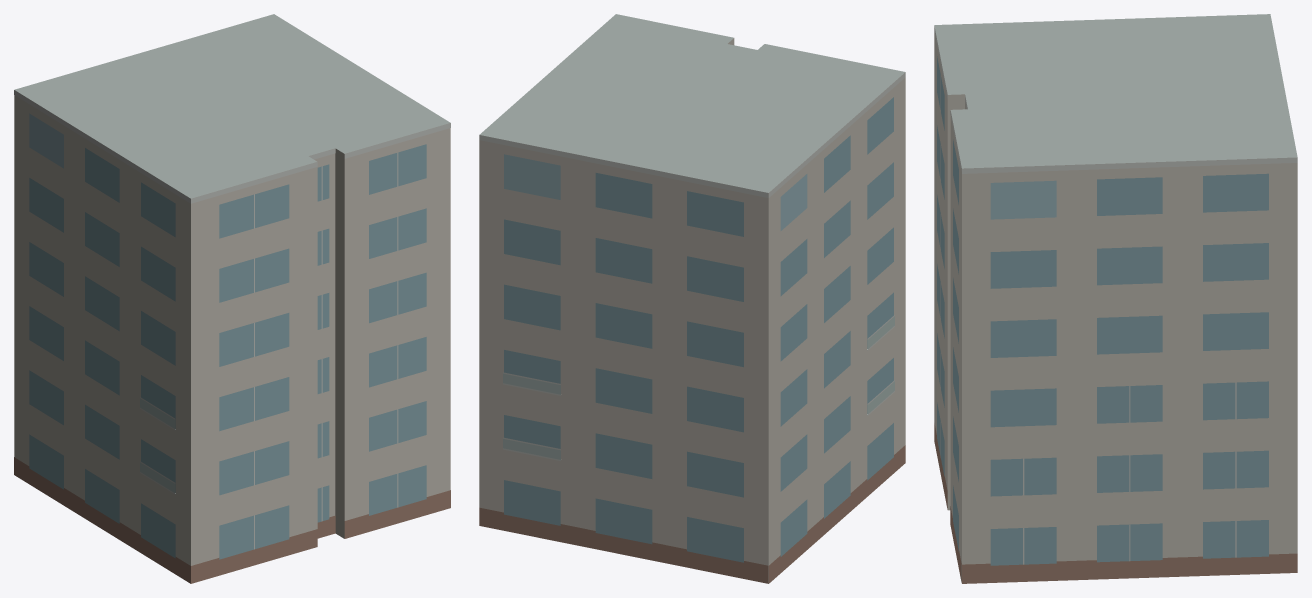
File: survey-upis-32737533.glb
3 views of the same model, side by side, from view 1: azimuth 30°, elevation 25°; view 2: azimuth 150°, elevation 25°; view 3: azimuth 270°, elevation 25° (orthographic). The views are drawn at different scales.
Visible parts, largest first — view 1: survey-upis-32737533.tmp; view 2: survey-upis-32737533.tmp; view 3: survey-upis-32737533.tmp.
Part boxes in pixels (<box>): survey-upis-32737533.tmp: <box>14,14,450,583</box>; survey-upis-32737533.tmp: <box>479,14,905,583</box>; survey-upis-32737533.tmp: <box>934,14,1297,583</box>.
Bounding box in the file's own units: 14.77 × 18.5 × 14.68.
